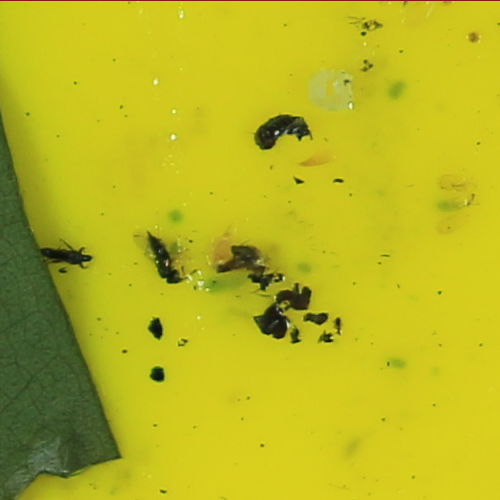Psyllaephagus: (140, 229, 183, 287)
